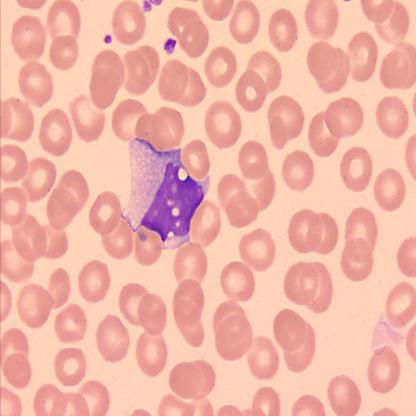Atypical lymphocyte: (118, 134, 211, 252)
